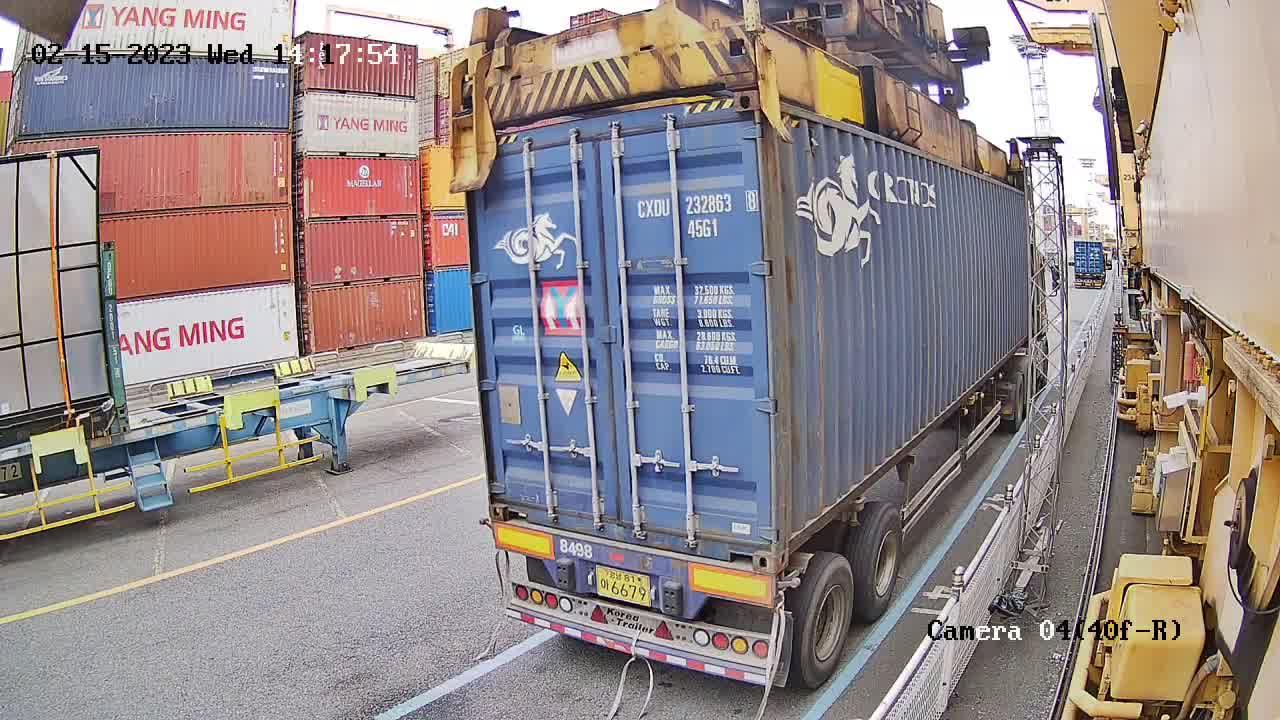Chassis: (491, 524, 777, 619)
Cone: (779, 567, 789, 609)
Hole_L: (487, 468, 531, 529), (775, 499, 808, 574)
Hole_R: (719, 517, 775, 576)
Tire: (797, 556, 855, 689), (855, 504, 904, 617)
